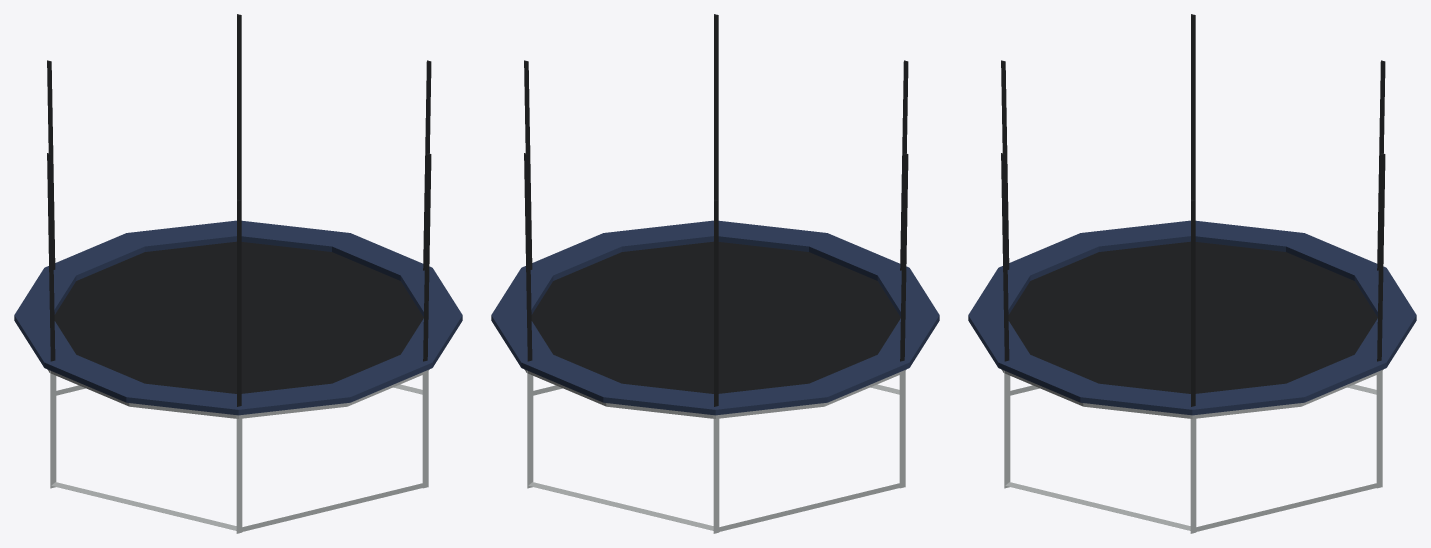
Rendered from trampoline.glb.
The picture shows the model from 3 angles, left to right: view 1: azimuth 30°, elevation 25°; view 2: azimuth 150°, elevation 25°; view 3: azimuth 270°, elevation 25°; orthographic projection.
Parts seen in each view (by area): view 1: trampoline; view 2: trampoline; view 3: trampoline.
Part boxes in pixels (x1=…): trampoline: x1=14, y1=14, x2=462, y2=533; trampoline: x1=491, y1=14, x2=939, y2=533; trampoline: x1=968, y1=14, x2=1416, y2=533.
Bounding box in the file's own units: 2.92 × 2.4 × 2.92.
Materials: 1 (1 with a texture image).
